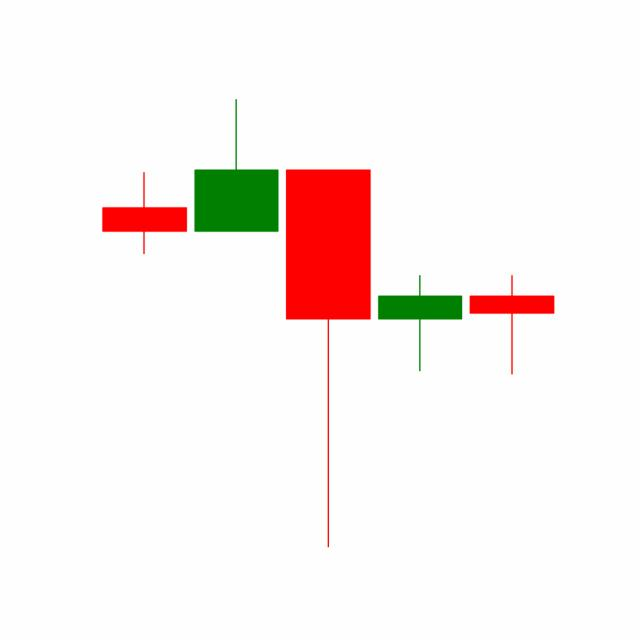Spinning Top: (464, 272, 558, 376)
